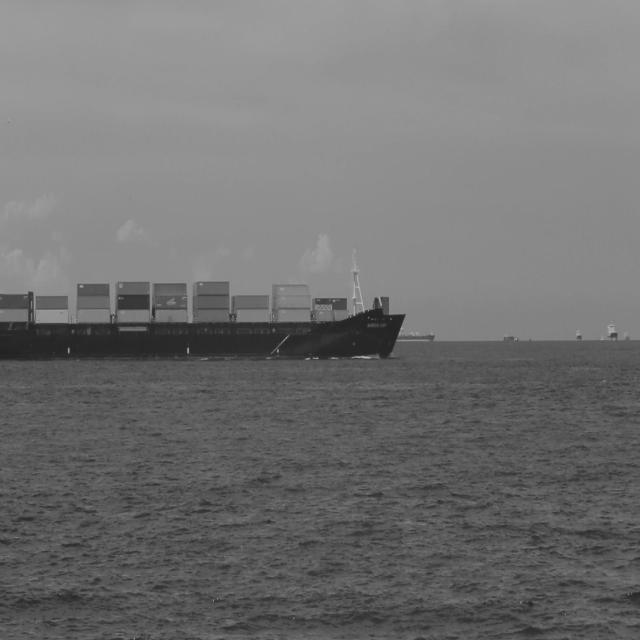ship: (0, 248, 409, 362), (398, 322, 438, 342)
